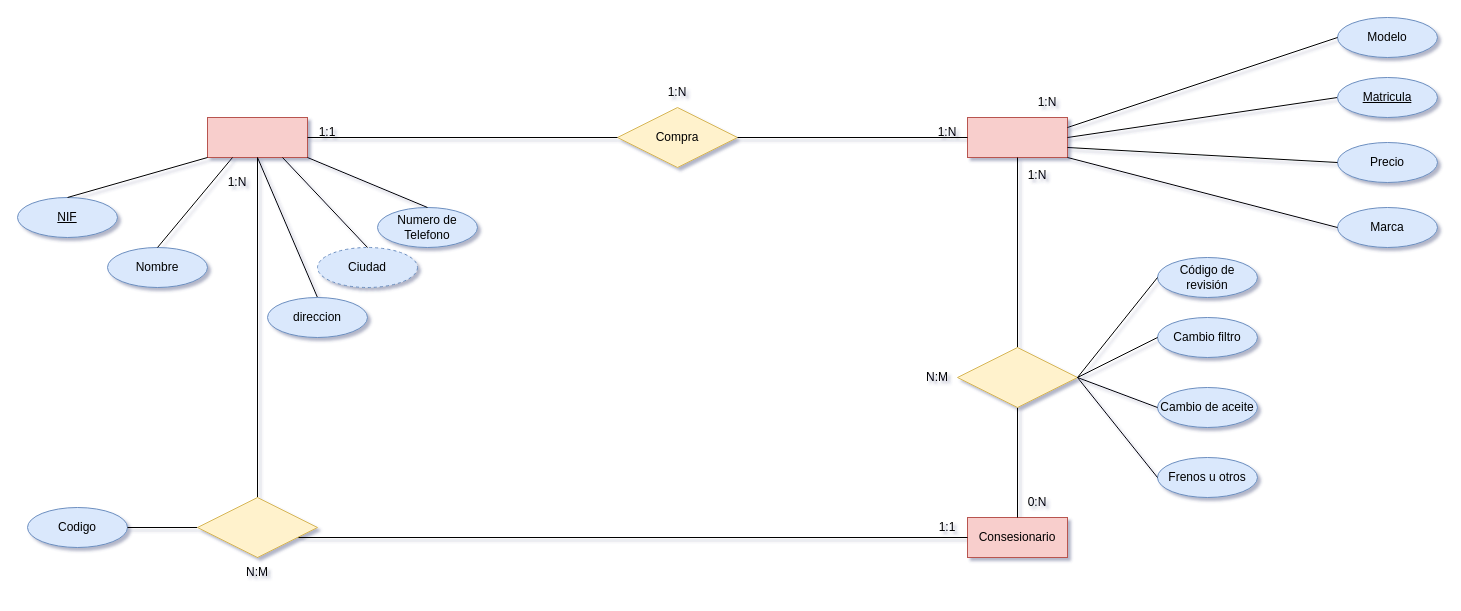
This 1461x611 diagram has some shape labels left out. Each missing label, with the centre of its shape:
Cliente: [257,137]
Coches: [1017,137]
dar de alta: [257,527]
Revisa: [1017,377]
